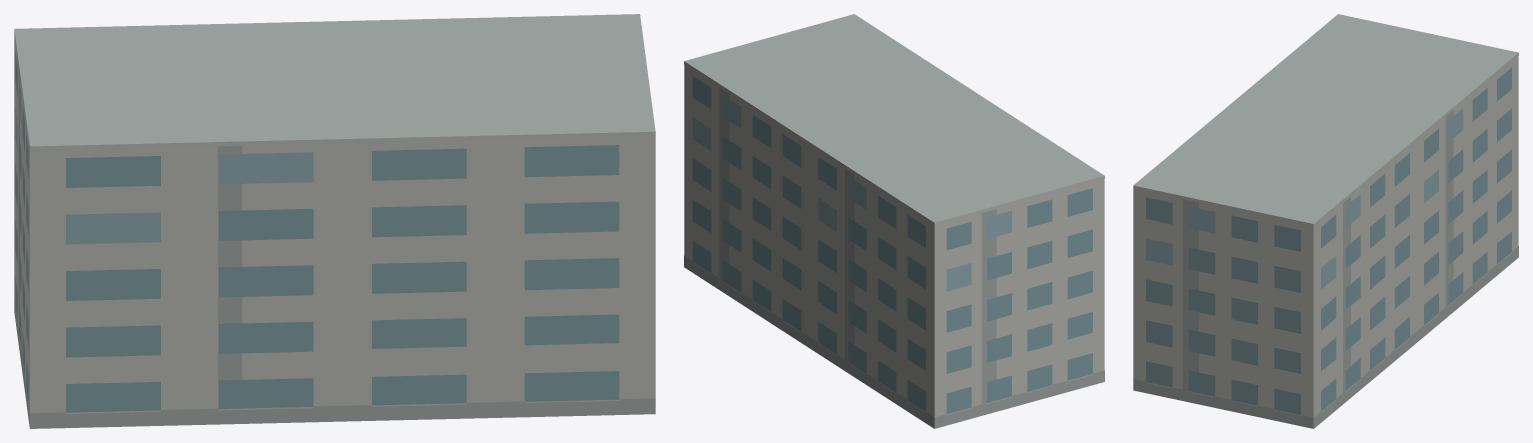
File: residential-e4f5b30e-c23c-4f9e-9a96-a07ab22ede96.glb
3 renders of one model, left to right at view 1: azimuth 30°, elevation 25°; view 2: azimuth 150°, elevation 25°; view 3: azimuth 270°, elevation 25°, orthographic. The views are drawn at different scales.
Visible parts, largest first — view 1: residential-e4f5b30e-c23c-4f9e-9a96-a07ab22ede96.tmp; view 2: residential-e4f5b30e-c23c-4f9e-9a96-a07ab22ede96.tmp; view 3: residential-e4f5b30e-c23c-4f9e-9a96-a07ab22ede96.tmp.
Boxes of the visible parts, x1,y1,x2,y2 form: residential-e4f5b30e-c23c-4f9e-9a96-a07ab22ede96.tmp: (14,14,655,428); residential-e4f5b30e-c23c-4f9e-9a96-a07ab22ede96.tmp: (684,14,1104,428); residential-e4f5b30e-c23c-4f9e-9a96-a07ab22ede96.tmp: (1133,14,1518,428).
Bounding box in the file's own units: 33.53 × 15.25 × 26.01.
